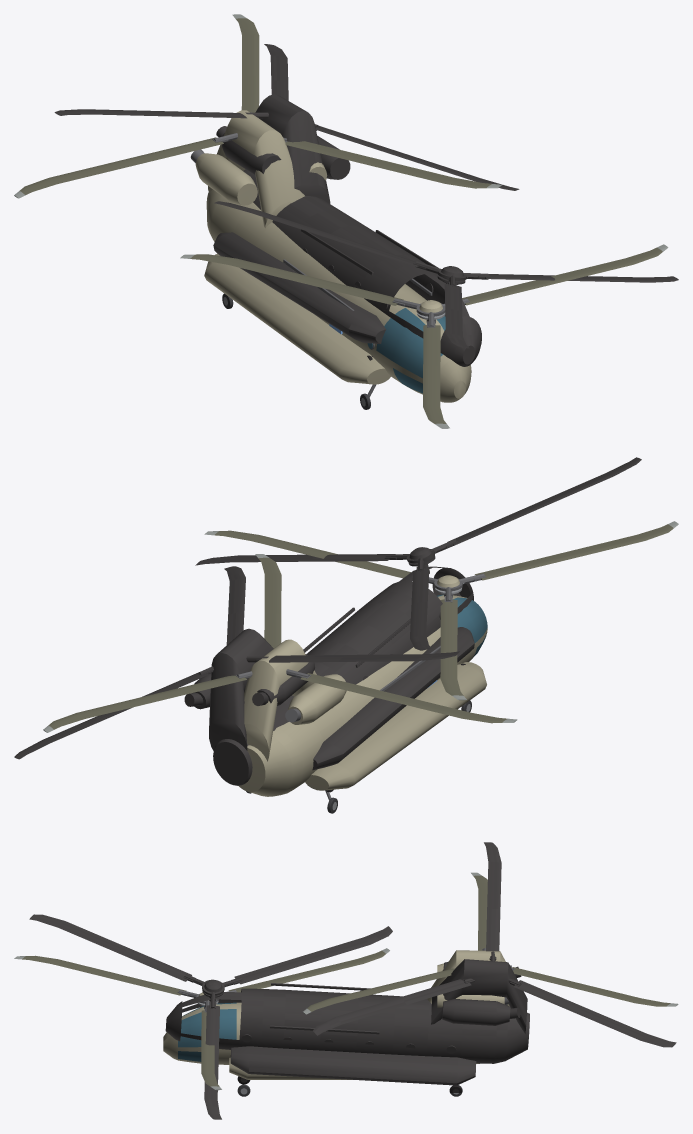
File: heavyLift__ch_47ja_chinook.glb
3 views of the same model, one above another, from view 1: azimuth 30°, elevation 25°; view 2: azimuth 150°, elevation 25°; view 3: azimuth 270°, elevation 25° (orthographic). The views are drawn at different scales.
Parts seen in each view (by area): view 1: Wreck, Fuselage_Mesh, Rotor_Main_Mesh, Rotor_Main_2_Mesh, Engines_Mesh; view 2: Wreck, Fuselage_Mesh, Rotor_Main_Mesh, Rotor_Main_2_Mesh, Engines_Mesh; view 3: Wreck, Fuselage_Mesh, Rotor_Main_Mesh, Rotor_Main_2_Mesh, Engines_Mesh.
Part boxes in pixels (<box>): Wreck: <box>54,44,678,366</box>; Fuselage_Mesh: <box>204,110,471,402</box>; Rotor_Main_Mesh: <box>180,244,668,428</box>; Rotor_Main_2_Mesh: <box>14,14,502,198</box>; Engines_Mesh: <box>190,149,327,205</box>; Wreck: <box>14,457,641,792</box>; Fuselage_Mesh: <box>238,594,487,796</box>; Rotor_Main_Mesh: <box>204,521,678,700</box>; Rotor_Main_2_Mesh: <box>43,554,517,732</box>; Engines_Mesh: <box>285,674,346,724</box>; Wreck: <box>29,842,676,1119</box>; Fuselage_Mesh: <box>163,950,509,1079</box>; Rotor_Main_Mesh: <box>14,948,389,1090</box>; Rotor_Main_2_Mesh: <box>303,872,678,1014</box>; Engines_Mesh: <box>437,963,511,1007</box>.
Size of what is drawn, in the model's own units: 18.65 by 7.8 by 28.27.
